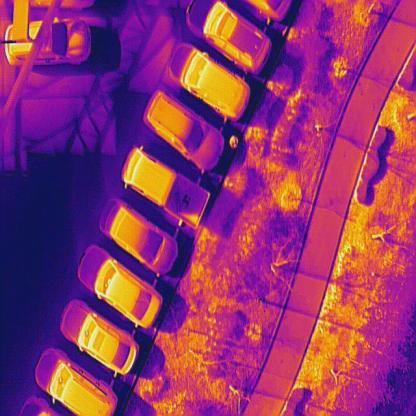Normal: (12, 0, 30, 38)
